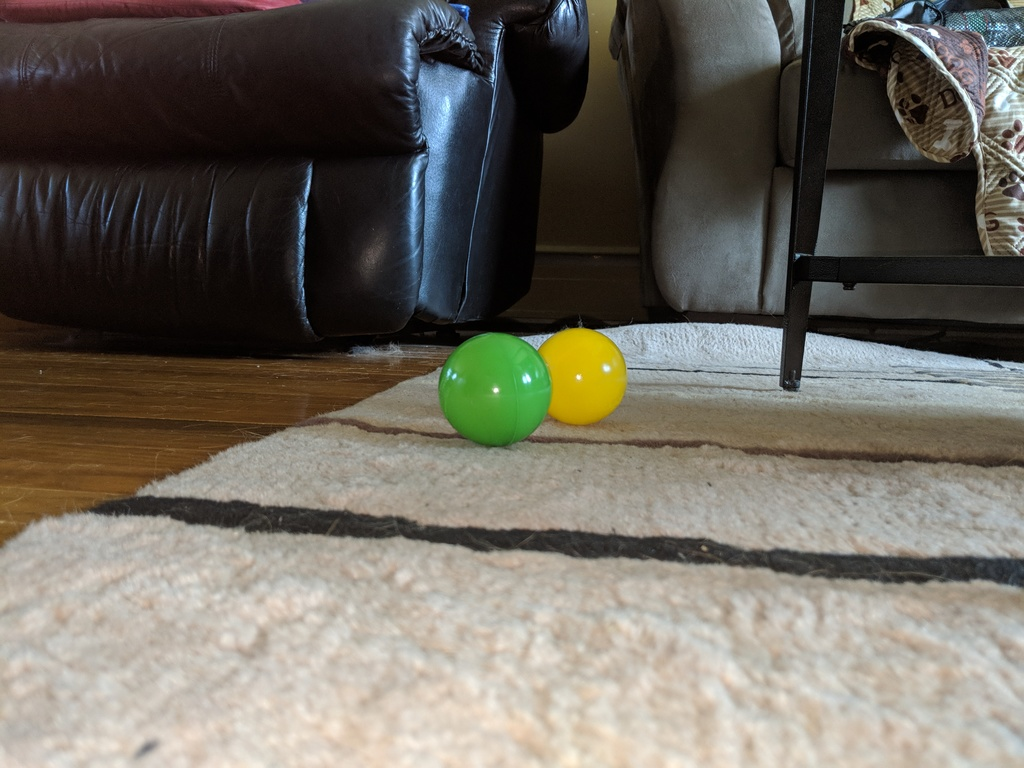ball: (433, 328, 554, 450)
